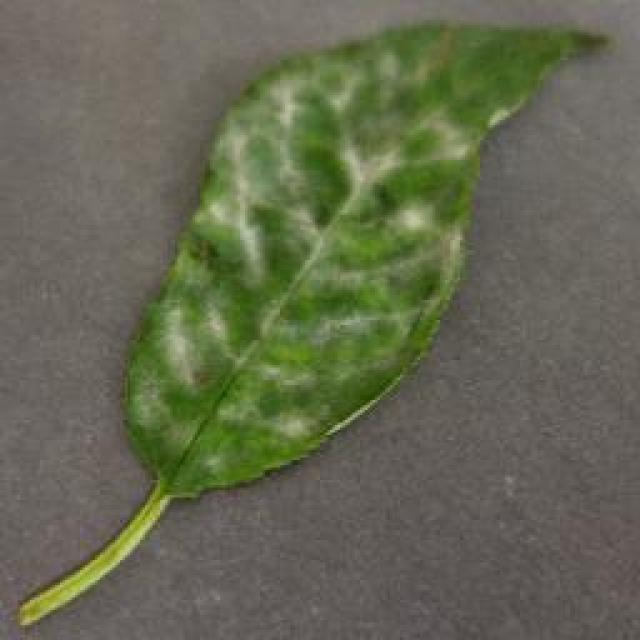Cherry___Powdery_mildew: (81, 68, 520, 421)
